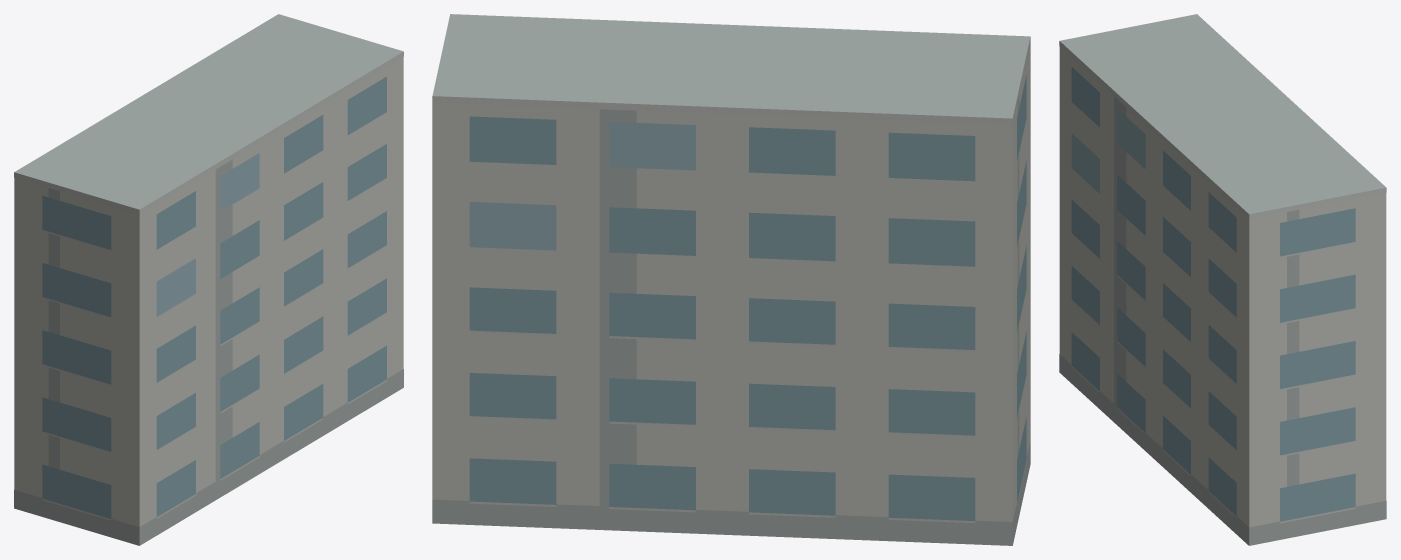
Rendered from residential-3398bd9b-d321-43b9-86d5-453363360de9.glb.
The picture shows the model from 3 angles, left to right: view 1: azimuth 30°, elevation 25°; view 2: azimuth 150°, elevation 25°; view 3: azimuth 270°, elevation 25°; orthographic projection. The views are drawn at different scales.
Visible parts, largest first — view 1: residential-3398bd9b-d321-43b9-86d5-453363360de9.tmp; view 2: residential-3398bd9b-d321-43b9-86d5-453363360de9.tmp; view 3: residential-3398bd9b-d321-43b9-86d5-453363360de9.tmp.
Part boxes in pixels (x1=…): residential-3398bd9b-d321-43b9-86d5-453363360de9.tmp: x1=14, y1=14, x2=403, y2=545; residential-3398bd9b-d321-43b9-86d5-453363360de9.tmp: x1=432, y1=14, x2=1030, y2=545; residential-3398bd9b-d321-43b9-86d5-453363360de9.tmp: x1=1059, y1=14, x2=1386, y2=545.
Size of the model in its own units: 19.76 by 15.25 by 13.64.
